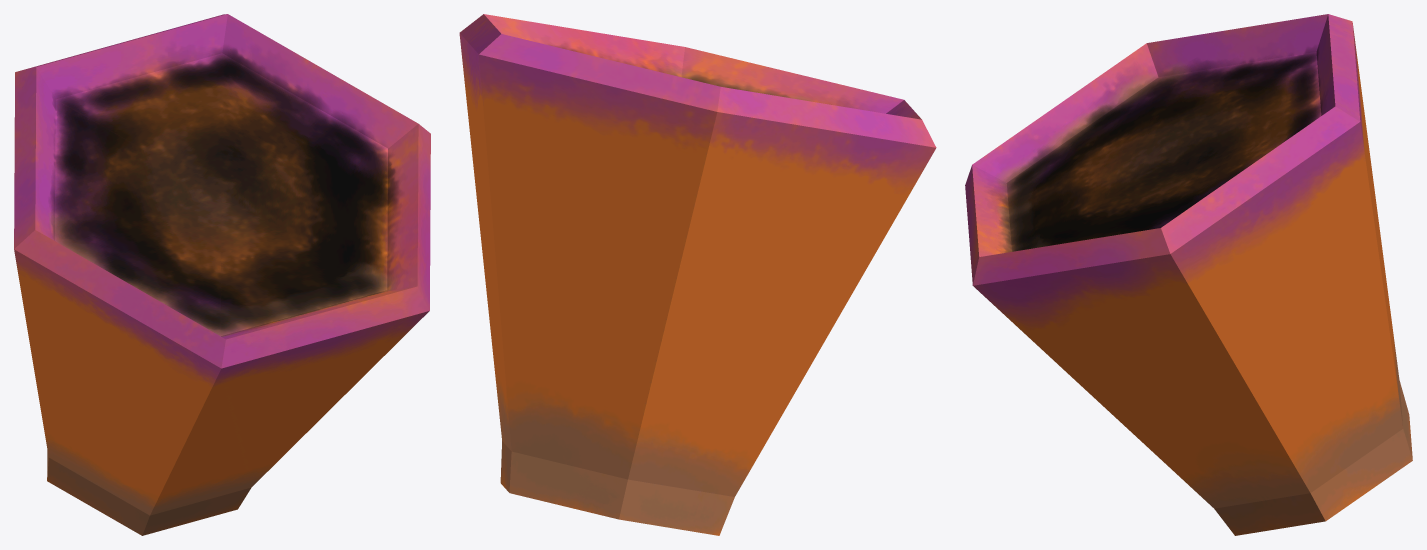
Rendered from MG_FlowerPot_001_Test.fbx.
The picture shows the model from 3 angles, left to right: view 1: azimuth 30°, elevation 25°; view 2: azimuth 150°, elevation 25°; view 3: azimuth 270°, elevation 25°; orthographic projection. The views are drawn at different scales.
Visible parts, largest first — view 1: node_id4; view 2: node_id4; view 3: node_id4.
Boxes of the visible parts, box(x1,y1,x2,y2) form: node_id4: box(14, 14, 430, 535); node_id4: box(459, 14, 936, 535); node_id4: box(965, 14, 1412, 535).
Size of the model in its own units: 0.5909 by 0.5989 by 0.5394.
1 material, 1 textured.
